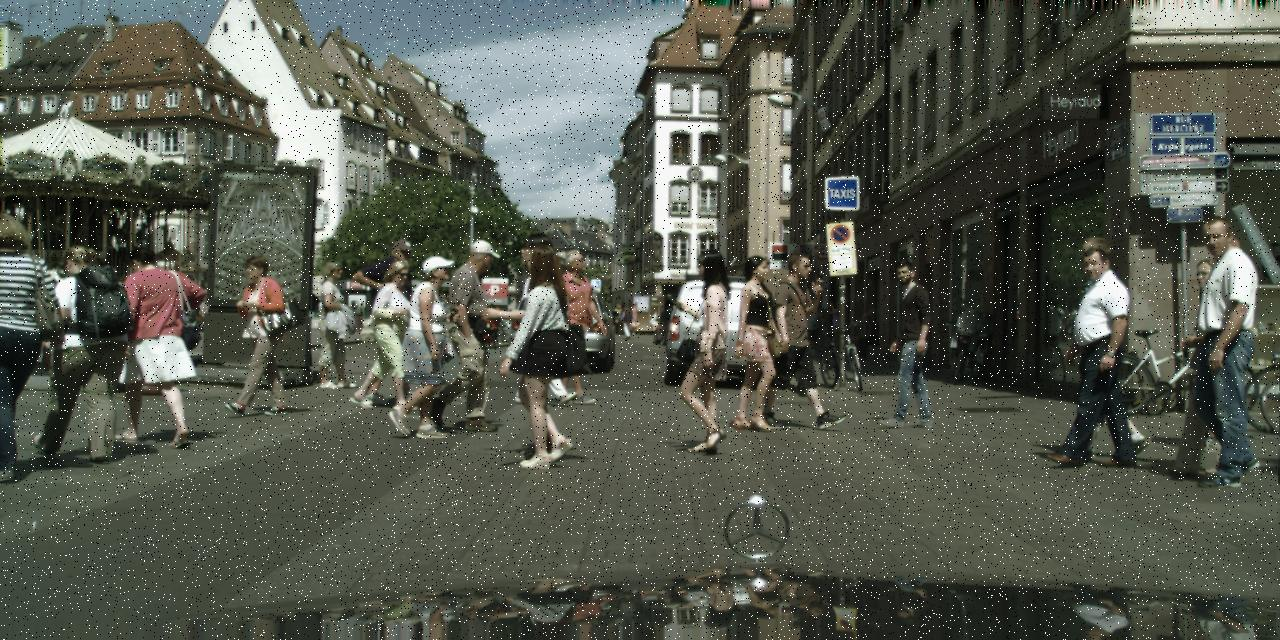ped: (1174, 215, 1279, 480), (492, 231, 586, 458), (499, 242, 592, 468), (1058, 236, 1148, 459), (1048, 246, 1138, 467), (1177, 236, 1267, 454), (1160, 260, 1249, 478), (32, 246, 118, 457), (664, 248, 748, 454), (0, 212, 62, 480), (109, 246, 189, 444), (432, 239, 509, 429), (388, 254, 462, 436), (764, 252, 836, 428), (718, 255, 789, 430), (362, 237, 429, 403), (872, 258, 939, 424), (223, 255, 288, 416), (540, 249, 604, 403), (363, 260, 424, 408), (514, 259, 573, 405), (308, 259, 360, 388), (800, 299, 822, 355), (829, 300, 848, 348), (620, 307, 634, 339), (610, 302, 622, 334), (628, 302, 640, 334)
